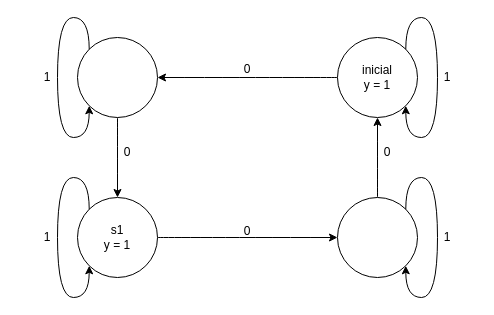
This 494x315 diagram has some shape labels left out. The centre of each missing label's shape, as x and y in pixels:
s0 y = 1: point (117, 77)
s2 y = 0: point (377, 237)
